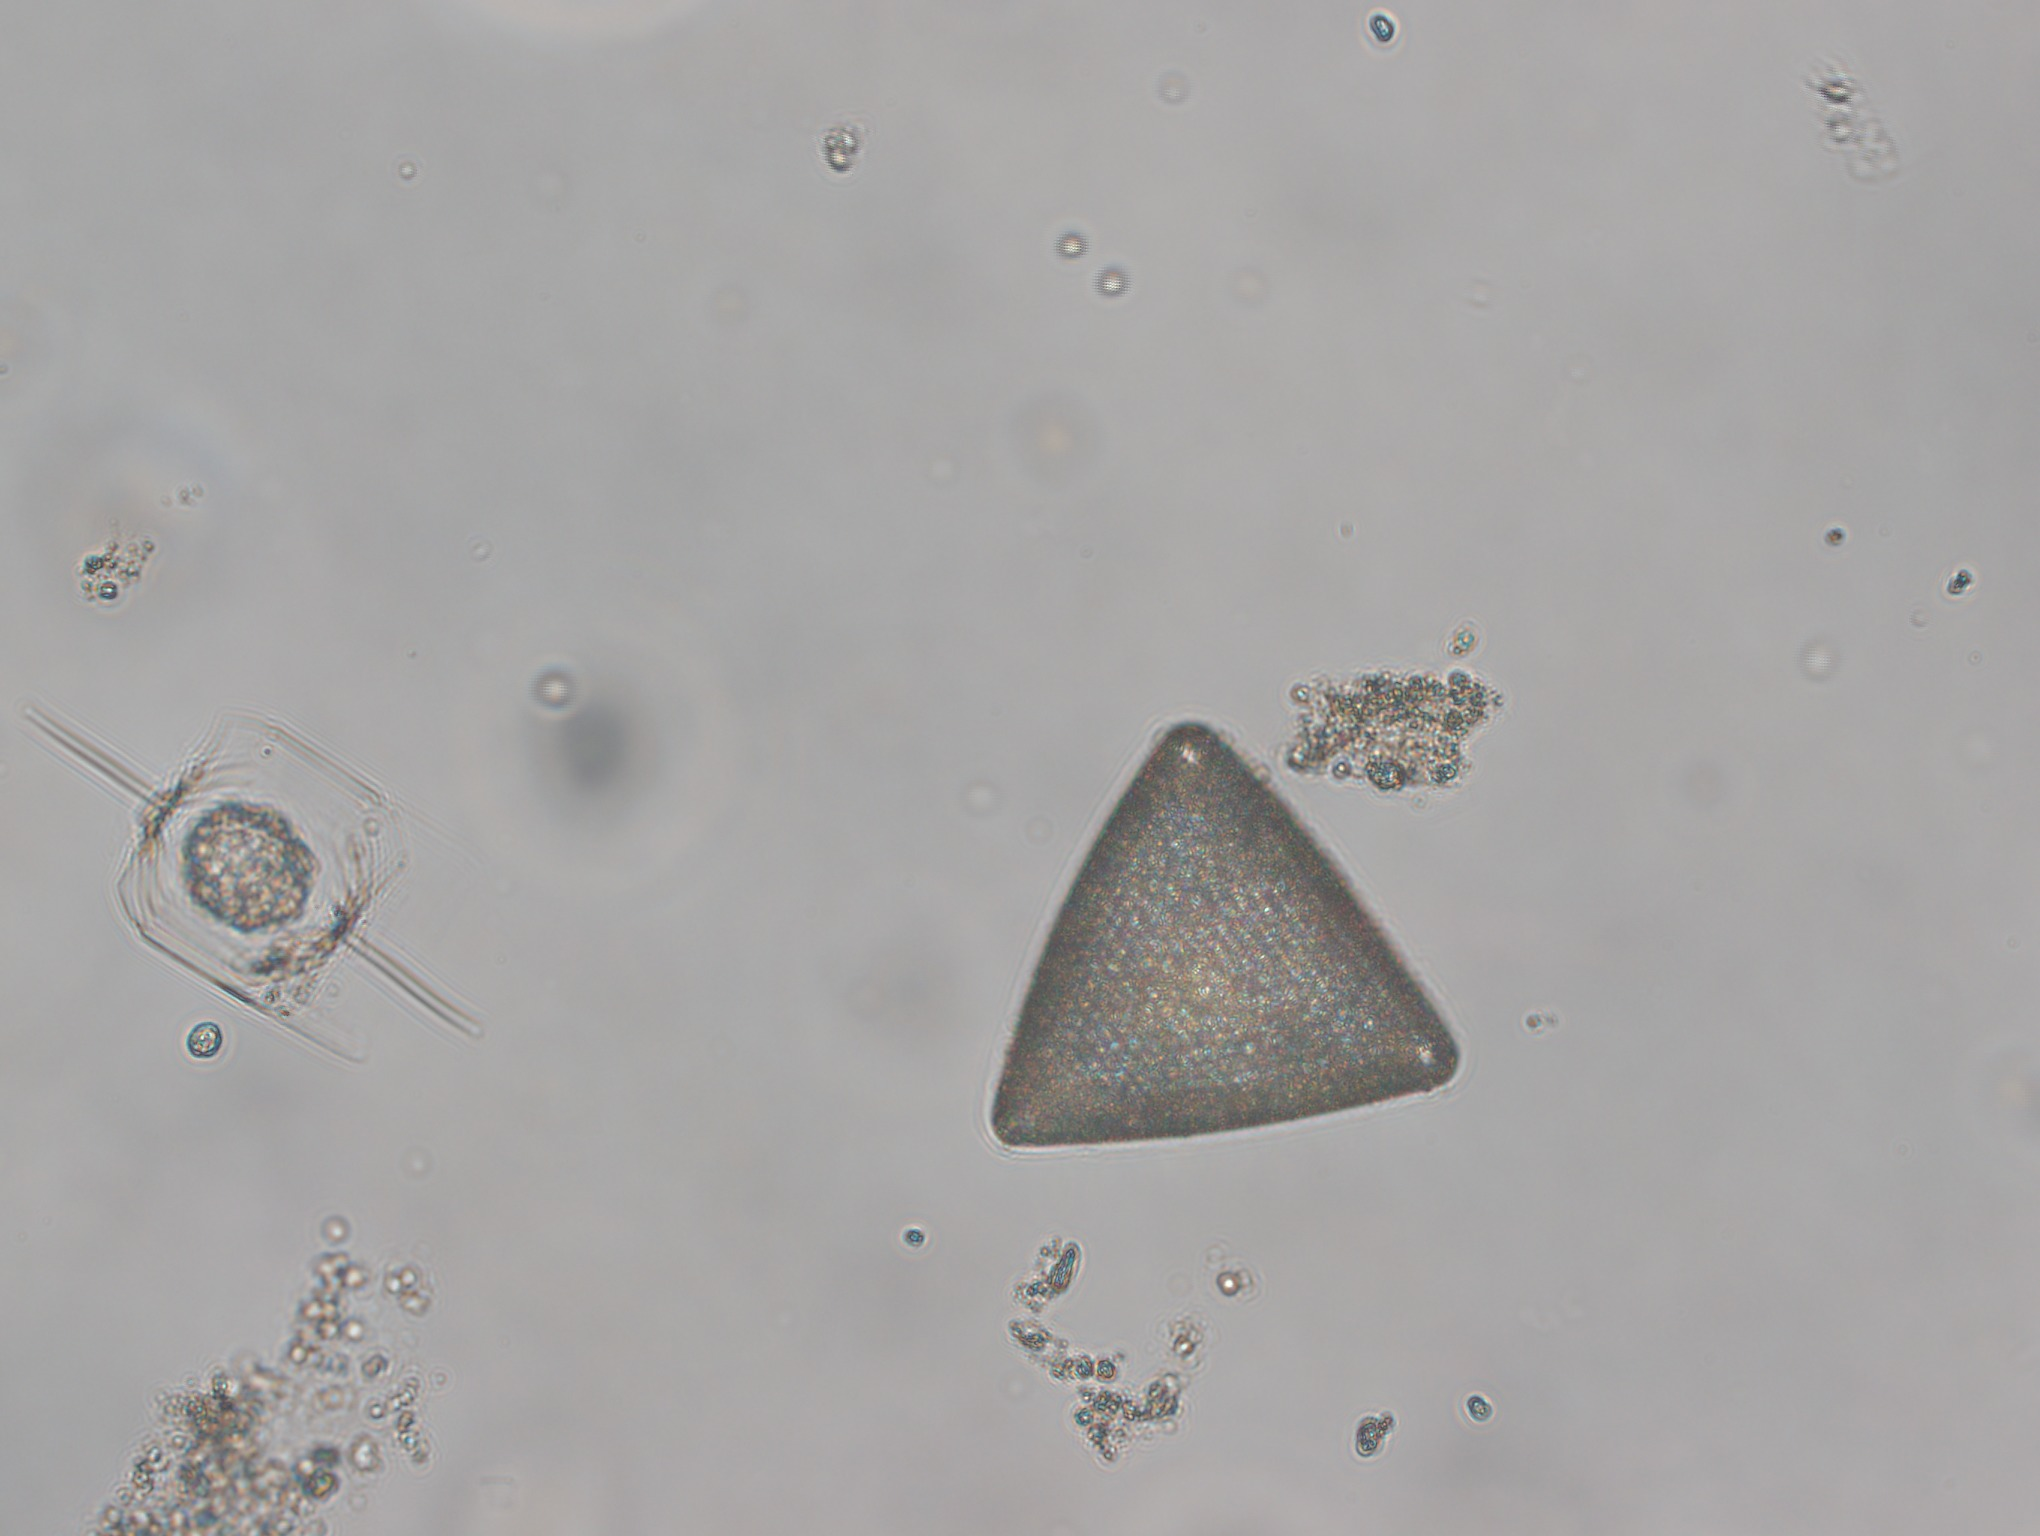coscinodiscus flank: (987, 718, 1463, 1149)
ditylum: (19, 700, 495, 1054), (18, 699, 493, 1050)
